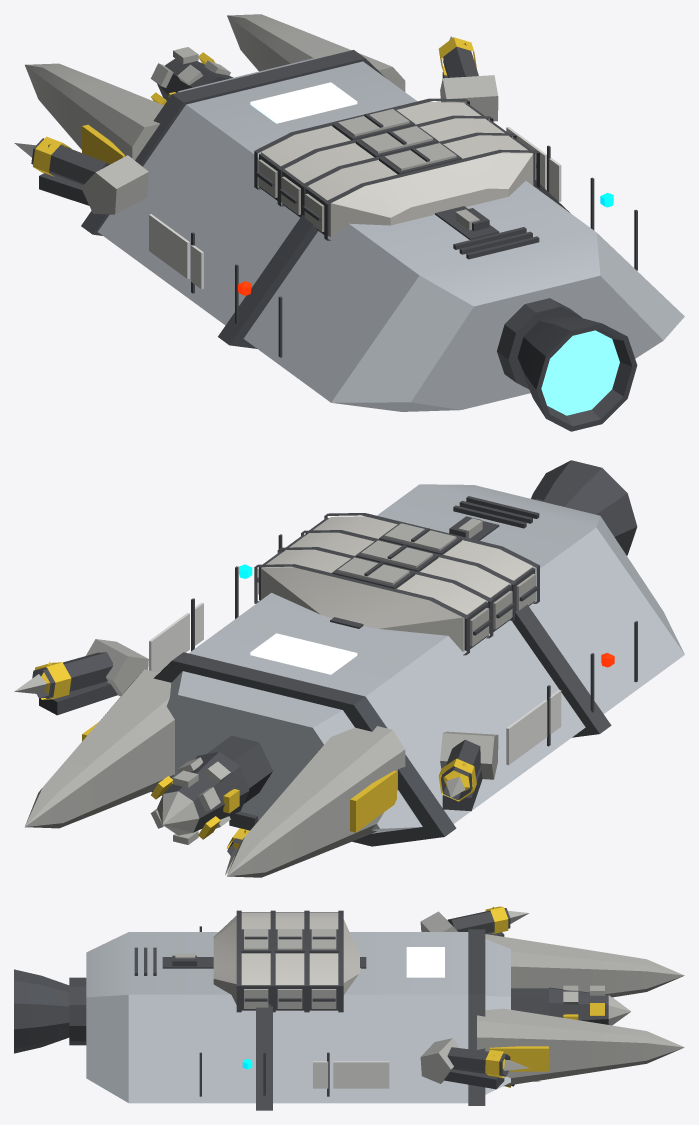
The model's file is quarry.glb.
3 renders of one model, top to bottom at view 1: azimuth 30°, elevation 25°; view 2: azimuth 150°, elevation 25°; view 3: azimuth 270°, elevation 25°, orthographic. The views are drawn at different scales.
Parts seen in each view (by area): view 1: Hull, Jaw_L, Jaw_R, Rotor_Mill; view 2: Hull, Jaw_L, Jaw_R, Rotor_Mill; view 3: Hull, Jaw_R, Jaw_L, Rotor_Mill.
Part boxes in pixels (x1,y1,x2,y2): Hull: (31, 37, 684, 431); Jaw_L: (25, 63, 163, 164); Jaw_R: (227, 14, 405, 91); Rotor_Mill: (150, 47, 232, 105); Hull: (32, 460, 684, 855); Jaw_L: (227, 726, 405, 877); Jaw_R: (25, 669, 174, 828); Rotor_Mill: (150, 752, 249, 844); Hull: (14, 906, 548, 1110); Jaw_R: (477, 1008, 684, 1086); Jaw_L: (485, 934, 684, 997); Rotor_Mill: (549, 985, 630, 1025).
Size of the model in its own units: 1.1 by 0.4856 by 2.
